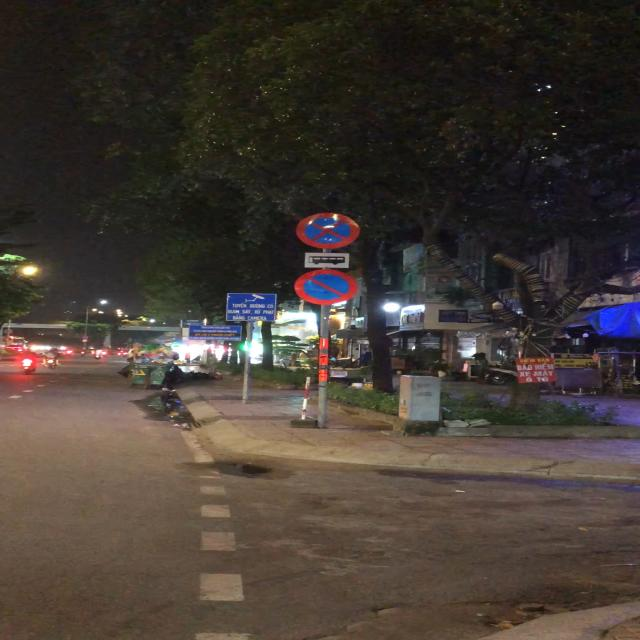Bien bao cam do xe: (290, 268, 363, 305)
Bien bao cam dung xe va do xe: (294, 211, 363, 252)
